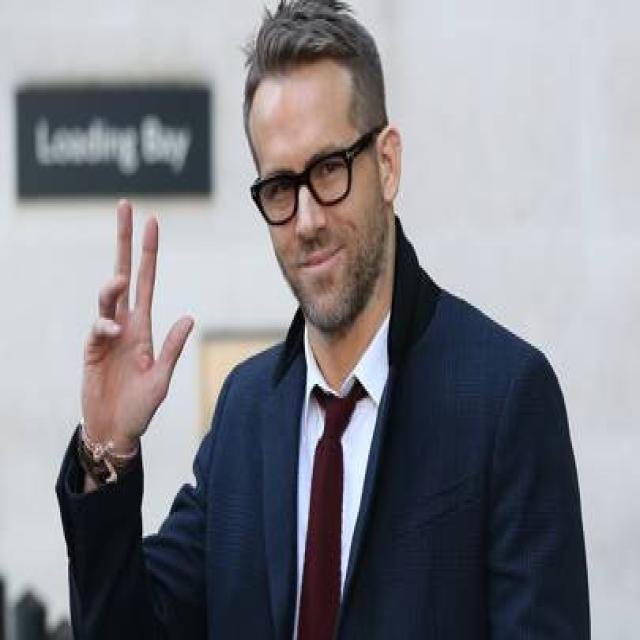human: (49, 2, 597, 640)
